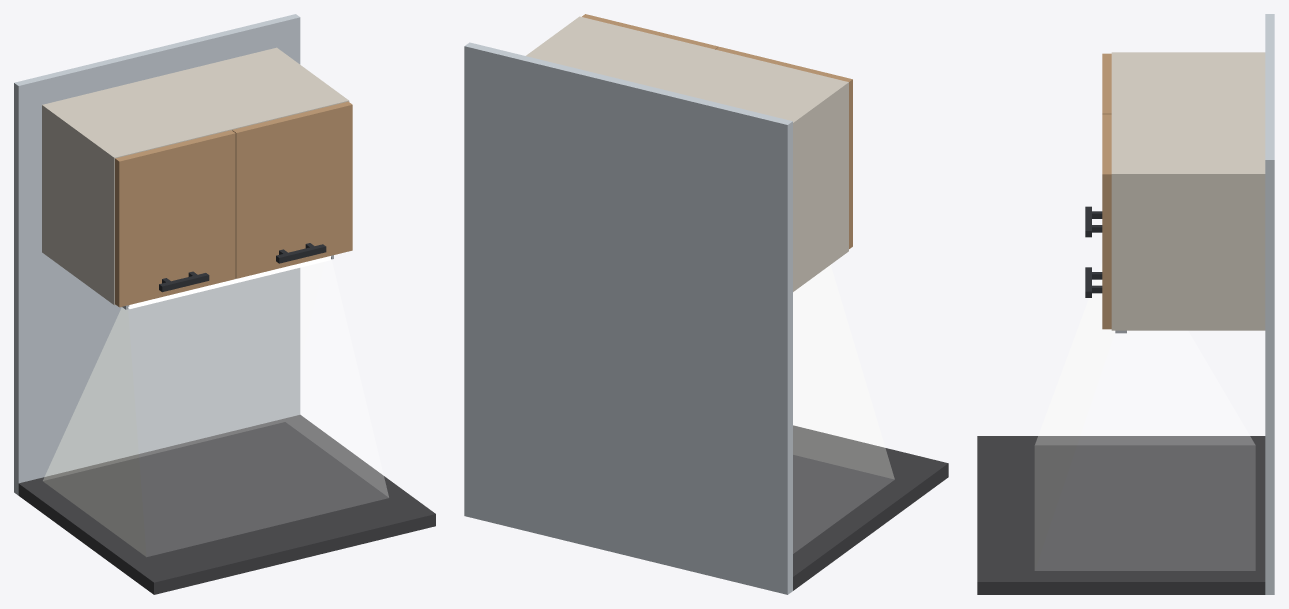
File: lighting.glb
3 renders of one model, left to right at view 1: azimuth 30°, elevation 25°; view 2: azimuth 150°, elevation 25°; view 3: azimuth 270°, elevation 25°, orthographic. The views are drawn at different scales.
Visible parts, largest first — view 1: 빛 줄기, 벽, 상판, 문짝, 문짝.001, 상부장 윗판, 상부장 옆판 왼쪽, 조명 덮개, 상부장 옆판 오른쪽; view 2: 벽, 빛 줄기, 상판, 상부장 윗판, 상부장 옆판 왼쪽, 문짝; view 3: 빛 줄기, 상판, 상부장 옆판 오른쪽, 상부장 윗판, 벽, 문짝.001, 문짝, 상부장 옆판 왼쪽, 상부장 뒤판.
Boxes of the visible parts, x1=… form: 빛 줄기: x1=43, y1=260, x2=388, y2=556; 벽: x1=14, y1=14, x2=300, y2=495; 상판: x1=18, y1=414, x2=435, y2=594; 문짝: x1=115, y1=130, x2=235, y2=307; 문짝.001: x1=232, y1=101, x2=352, y2=278; 상부장 윗판: x1=50, y1=50, x2=342, y2=156; 상부장 옆판 왼쪽: x1=42, y1=103, x2=121, y2=305; 조명 덮개: x1=128, y1=256, x2=330, y2=308; 상부장 옆판 오른쪽: x1=270, y1=47, x2=349, y2=102; 벽: x1=464, y1=42, x2=792, y2=594; 빛 줄기: x1=793, y1=265, x2=894, y2=552; 상판: x1=793, y1=425, x2=948, y2=590; 상부장 윗판: x1=534, y1=18, x2=840, y2=119; 상부장 옆판 왼쪽: x1=787, y1=80, x2=848, y2=291; 문짝: x1=716, y1=47, x2=852, y2=248; 빛 줄기: x1=1035, y1=264, x2=1254, y2=570; 상판: x1=977, y1=436, x2=1265, y2=594; 상부장 옆판 오른쪽: x1=1111, y1=170, x2=1265, y2=330; 상부장 윗판: x1=1111, y1=56, x2=1265, y2=170; 벽: x1=1265, y1=14, x2=1274, y2=594; 문짝.001: x1=1102, y1=114, x2=1111, y2=329; 문짝: x1=1102, y1=53, x2=1111, y2=114; 상부장 옆판 왼쪽: x1=1111, y1=52, x2=1265, y2=55; 상부장 뒤판: x1=1262, y1=56, x2=1265, y2=170.
Bounding box in the file's own units: 0.72 × 1 × 0.62.
